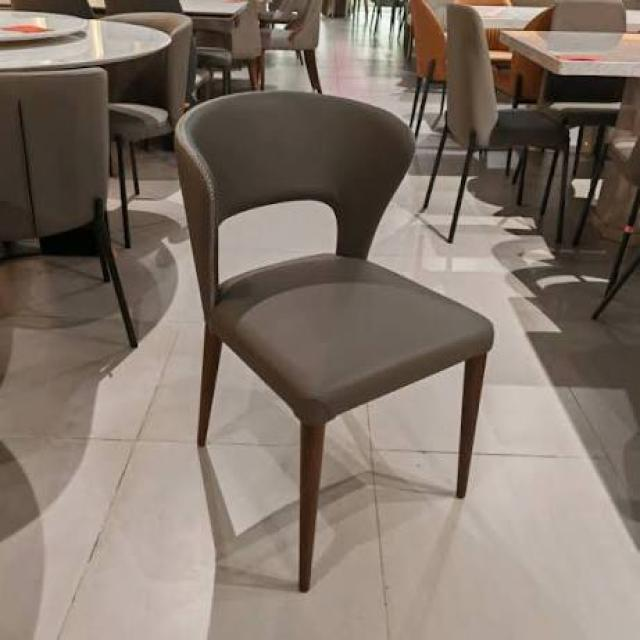Chair: (158, 80, 504, 611), (413, 0, 582, 267)
